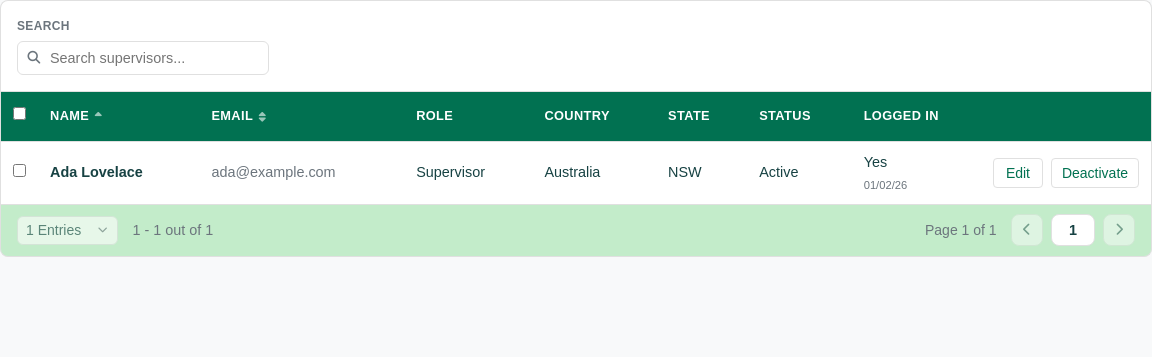
Test: AdminUsersView › does not offer bulk delete to supervisors
What coordinates should you click on to do the following:
click the checkbox named "Select this page"
I would click on:
 (20, 114)
Its box is [13, 107, 26, 120].
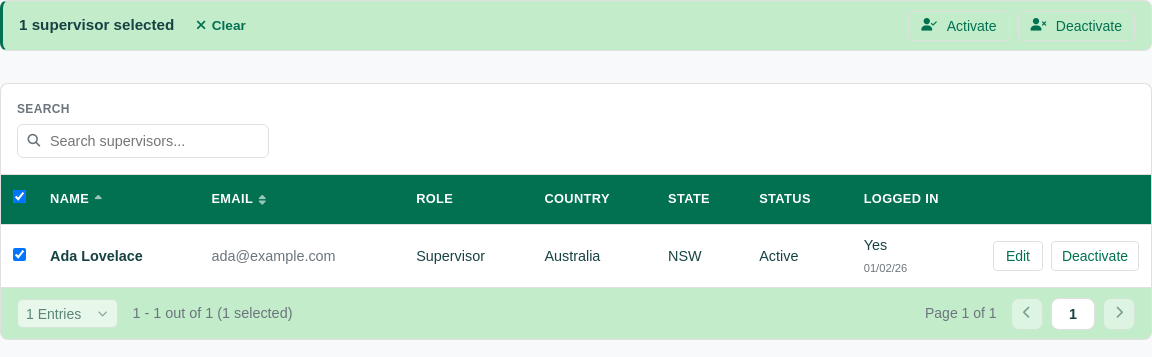
Result: the element showing "1 supervisor selected Clear Activate Deactivate" is shown at [0, 0, 1151, 51]
